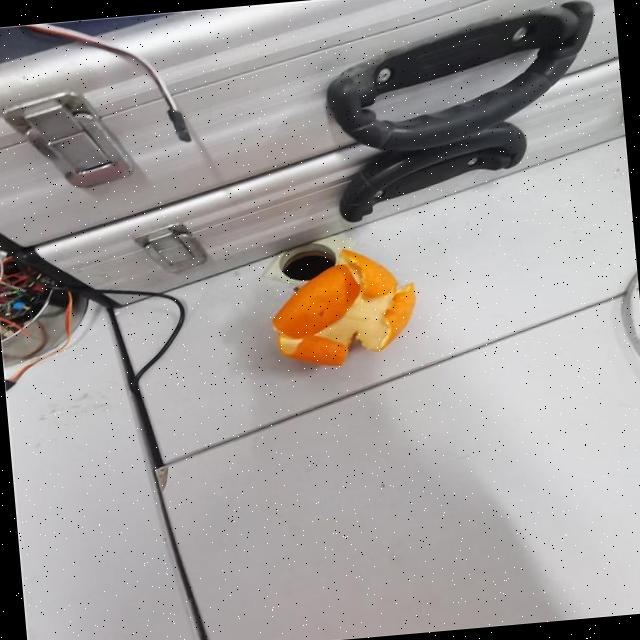orange-peel: (264, 240, 421, 372)
